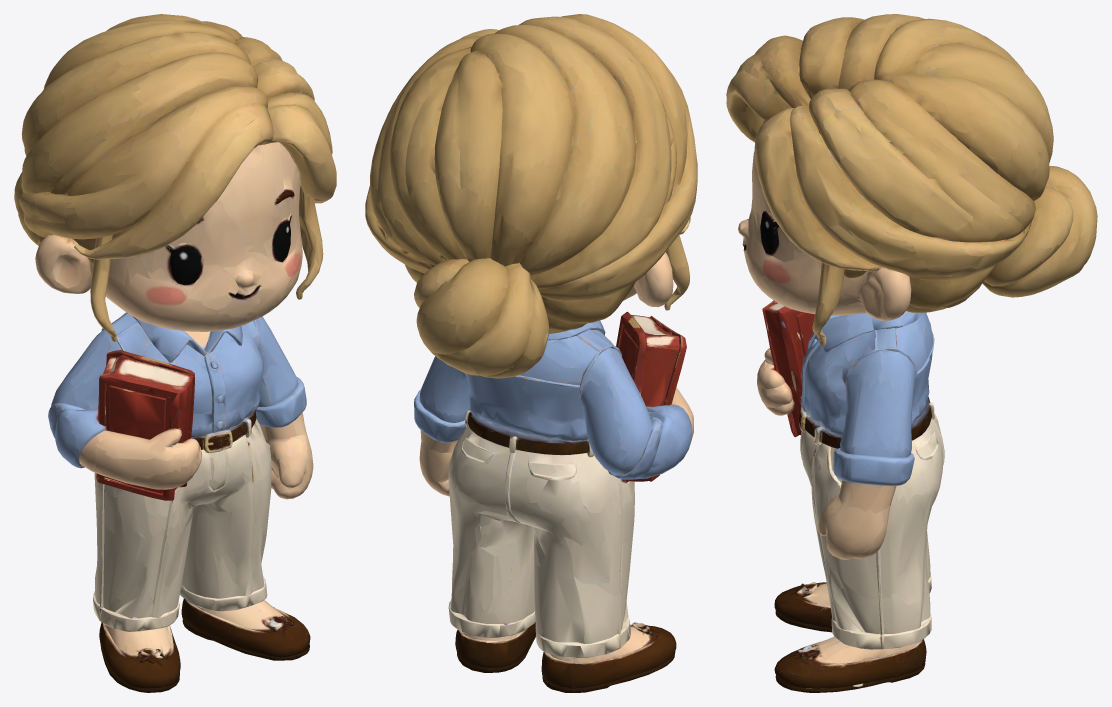
File: upm_mv3pqpk161e.glb
3 renders of one model, left to right at view 1: azimuth 30°, elevation 25°; view 2: azimuth 150°, elevation 25°; view 3: azimuth 270°, elevation 25°, orthographic. The views are drawn at different scales.
Size of the model in its own units: 0.9042 by 1.9 by 1.03.
Materials: 1 (1 with a texture image).
